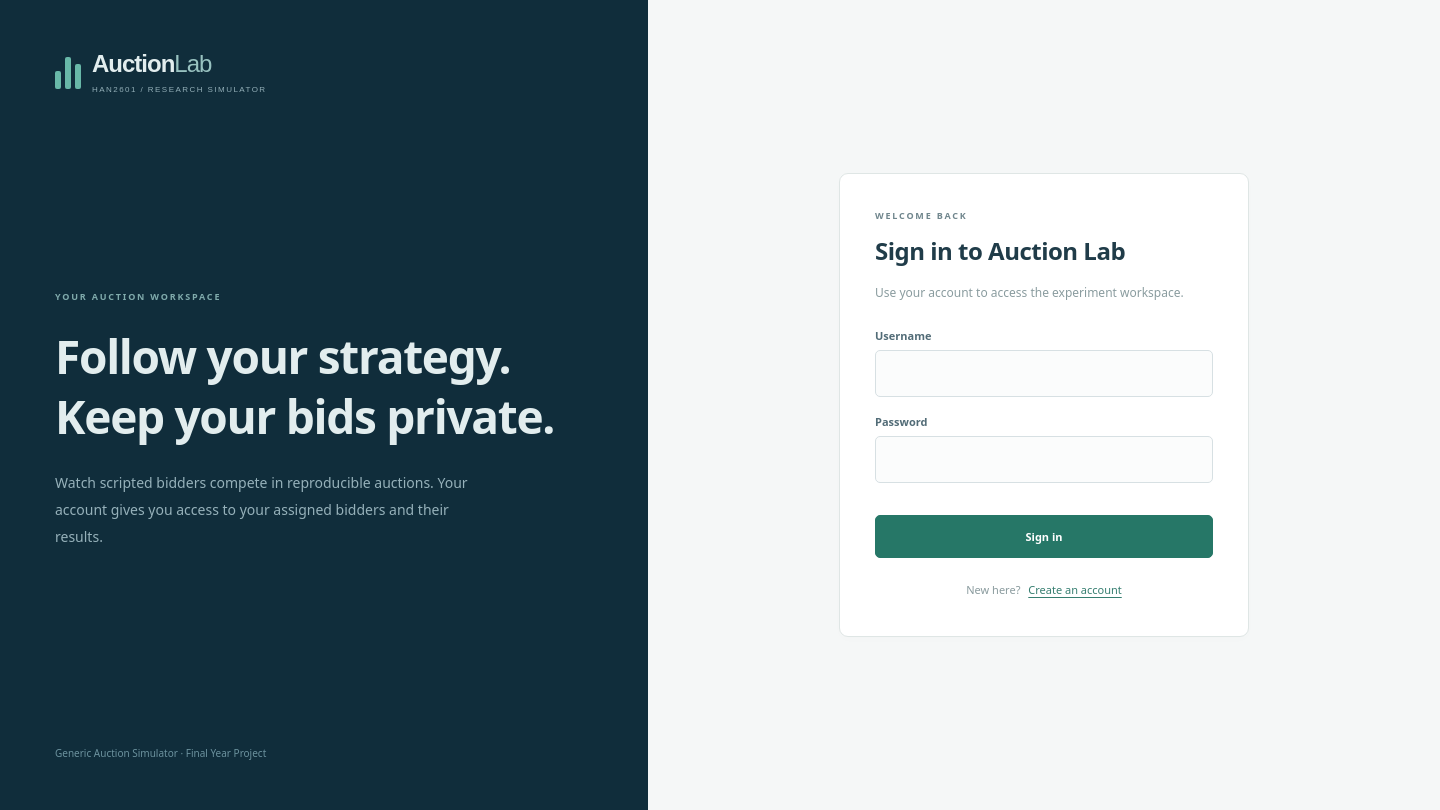
account sessions › registers a regular account and opens its empty assigned workspace
Click the button "Create an account" at (1075, 590), box x1=1028 y1=578 x2=1122 y2=601
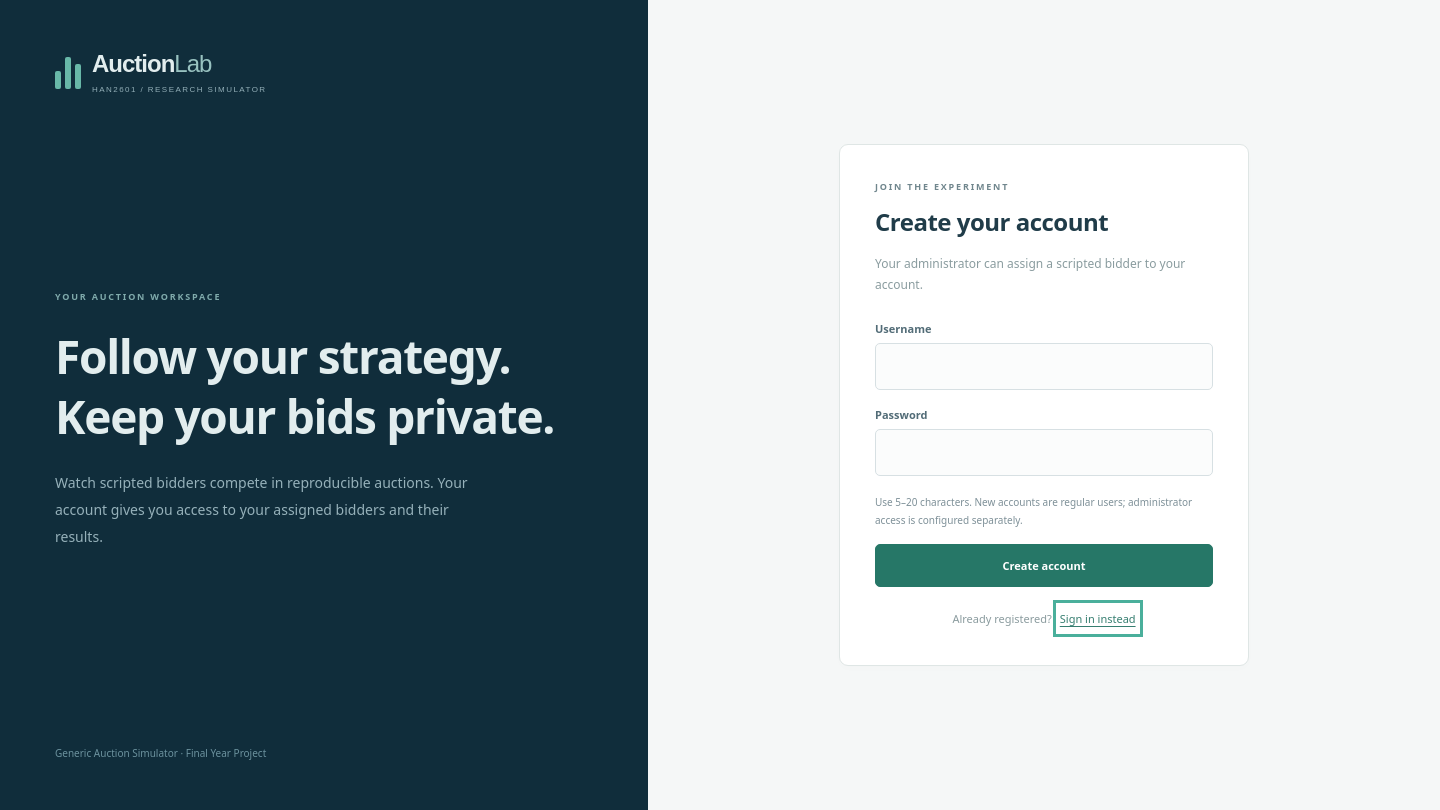
Type "alice" into the field labelled "Username" at (1044, 366), box x1=875 y1=343 x2=1213 y2=390
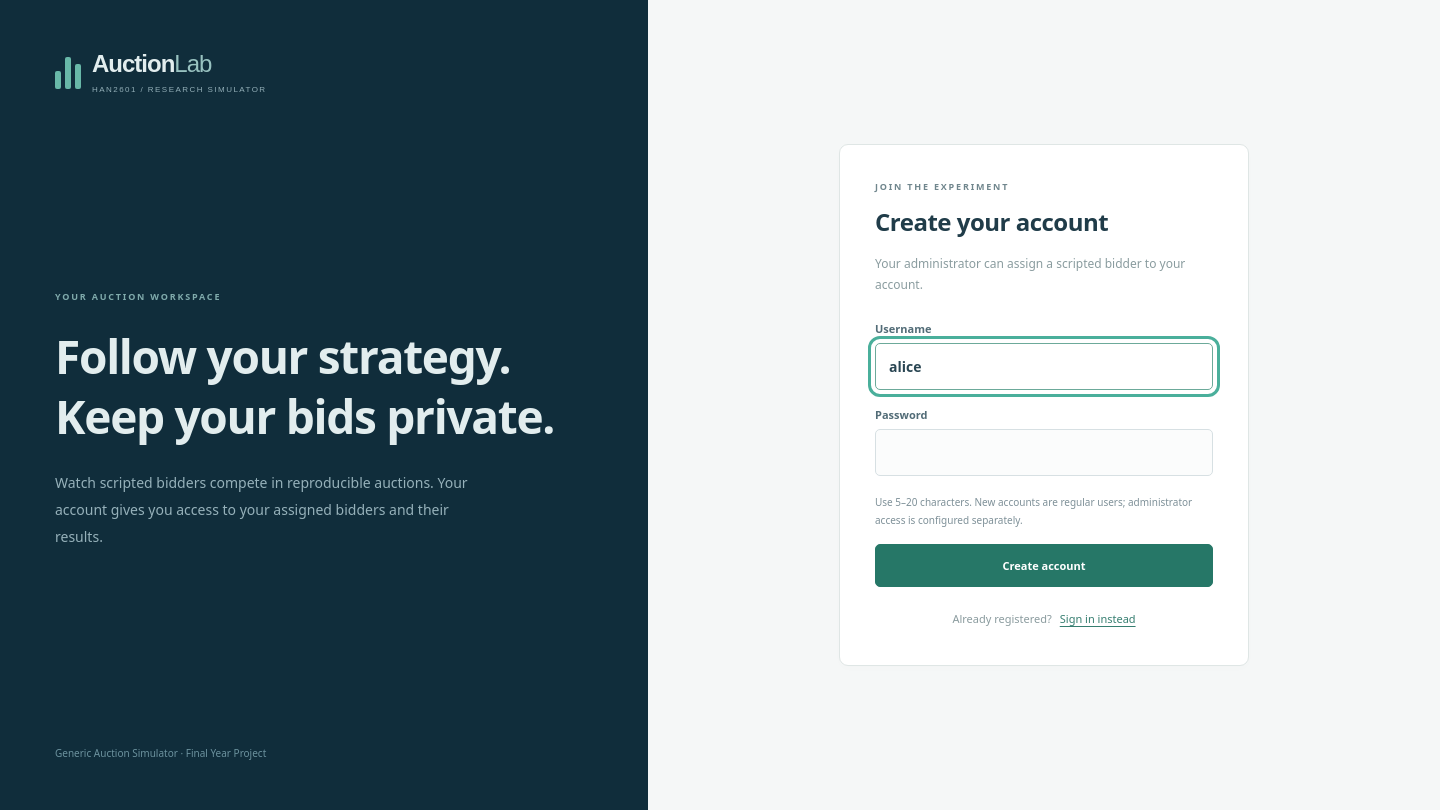
Type "short" into the password field labelled "Password" at (1044, 452), box x1=875 y1=429 x2=1213 y2=476
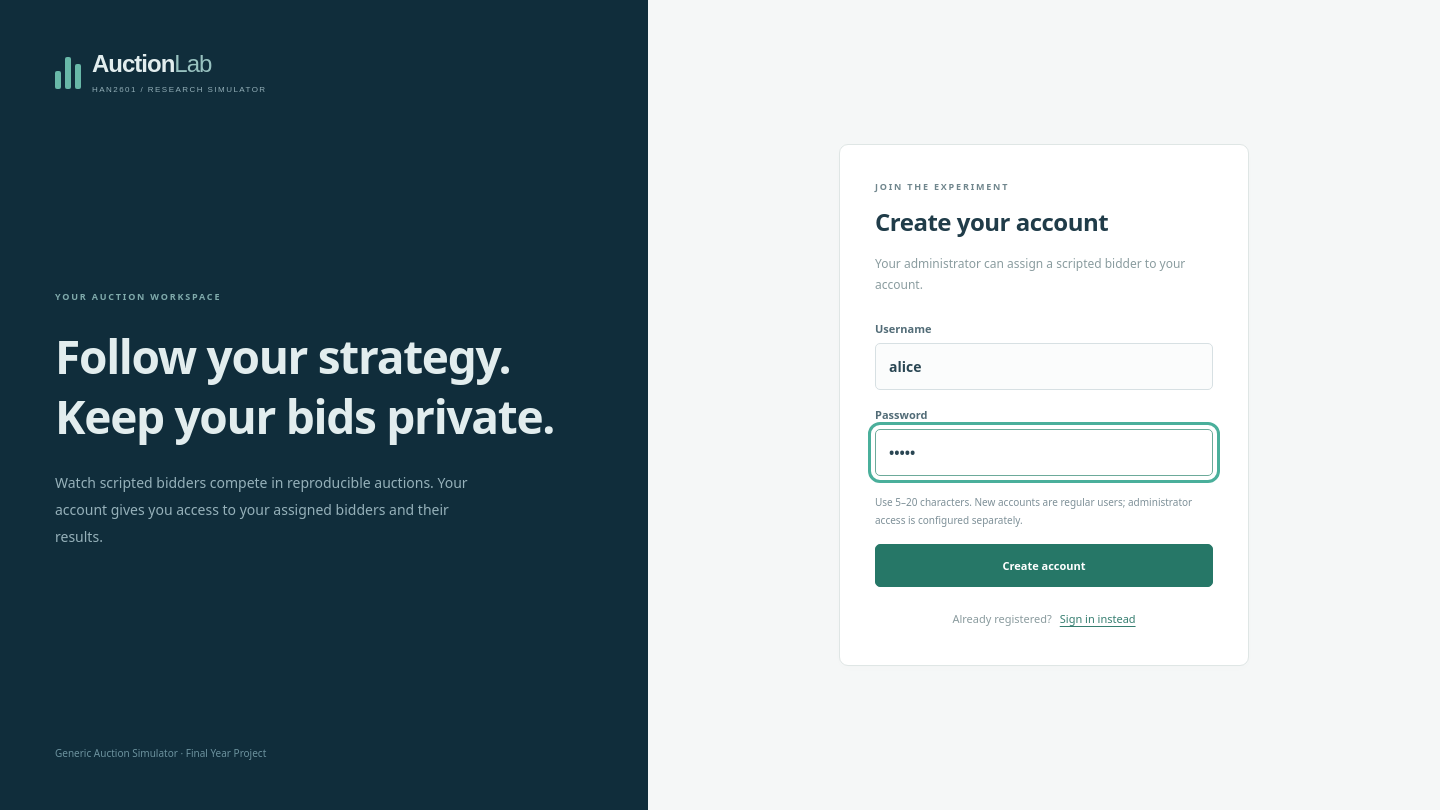
Click the button "Create account" at (1044, 565), box x1=875 y1=544 x2=1213 y2=587
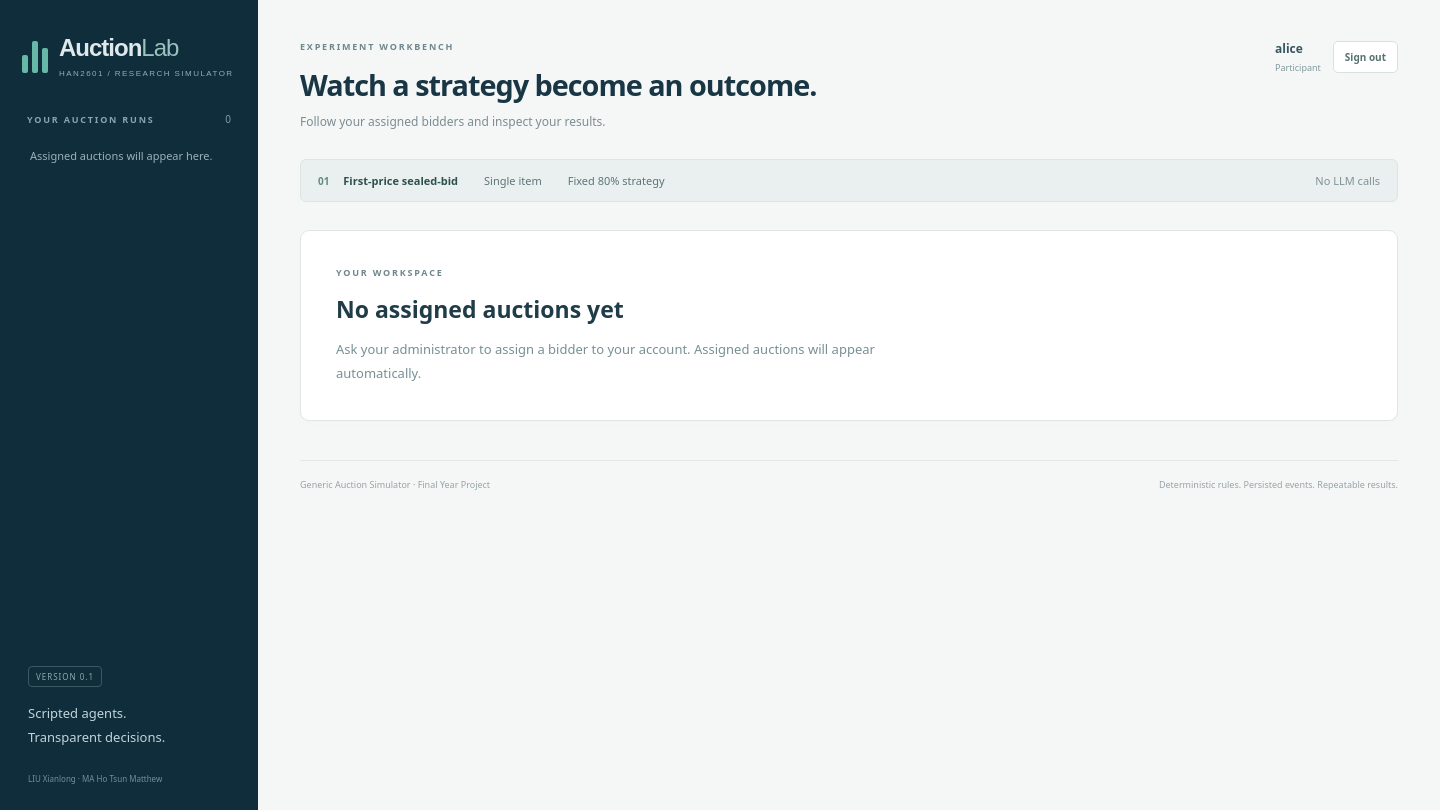
Result: the heading "No assigned auctions yet" is shown at x1=336 y1=293 x2=624 y2=325
Result: the text "Participant" is shown at x1=1275 y1=61 x2=1321 y2=74
